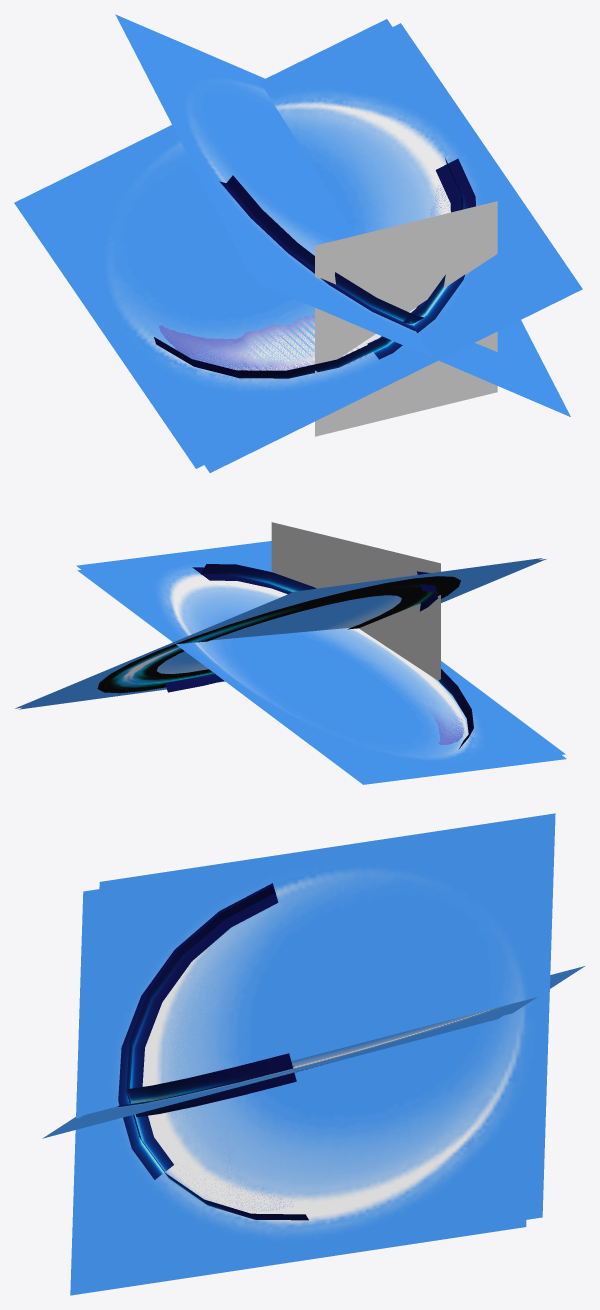
File: hengzhan.FBX
3 views of the same model, one above another, from view 1: azimuth 30°, elevation 25°; view 2: azimuth 150°, elevation 25°; view 3: azimuth 270°, elevation 25° (orthographic). The views are drawn at different scales.
Visible parts, largest first — view 1: Plane01, Plane02, Plane05, Plane06, Plane04, Plane03; view 2: Plane01, Plane05, Plane06, Tube02, Plane04, Plane02, Plane03; view 3: Plane02, Plane04, Plane06, Plane01.
Part boxes in pixels (bbox=[...]): Plane01: bbox=[14, 19, 568, 468]; Plane02: bbox=[115, 14, 560, 405]; Plane05: bbox=[315, 201, 497, 436]; Plane06: bbox=[204, 23, 582, 472]; Plane04: bbox=[154, 157, 475, 378]; Plane03: bbox=[159, 185, 450, 373]; Plane01: bbox=[77, 545, 566, 784]; Plane05: bbox=[271, 522, 440, 680]; Plane06: bbox=[19, 541, 565, 754]; Tube02: bbox=[97, 576, 460, 693]; Plane04: bbox=[165, 564, 473, 748]; Plane02: bbox=[15, 558, 542, 708]; Plane03: bbox=[412, 696, 464, 744]; Plane02: bbox=[86, 813, 555, 1285]; Plane04: bbox=[117, 883, 308, 1220]; Plane06: bbox=[42, 889, 526, 1295]; Plane01: bbox=[57, 966, 584, 1132].
Bounding box in the file's own units: 4.59 × 4.77 × 3.23.
